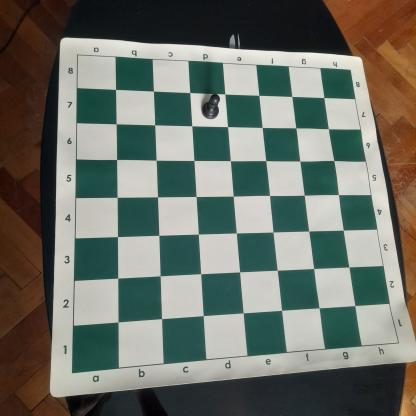black-pawn: (200, 93, 221, 120)
